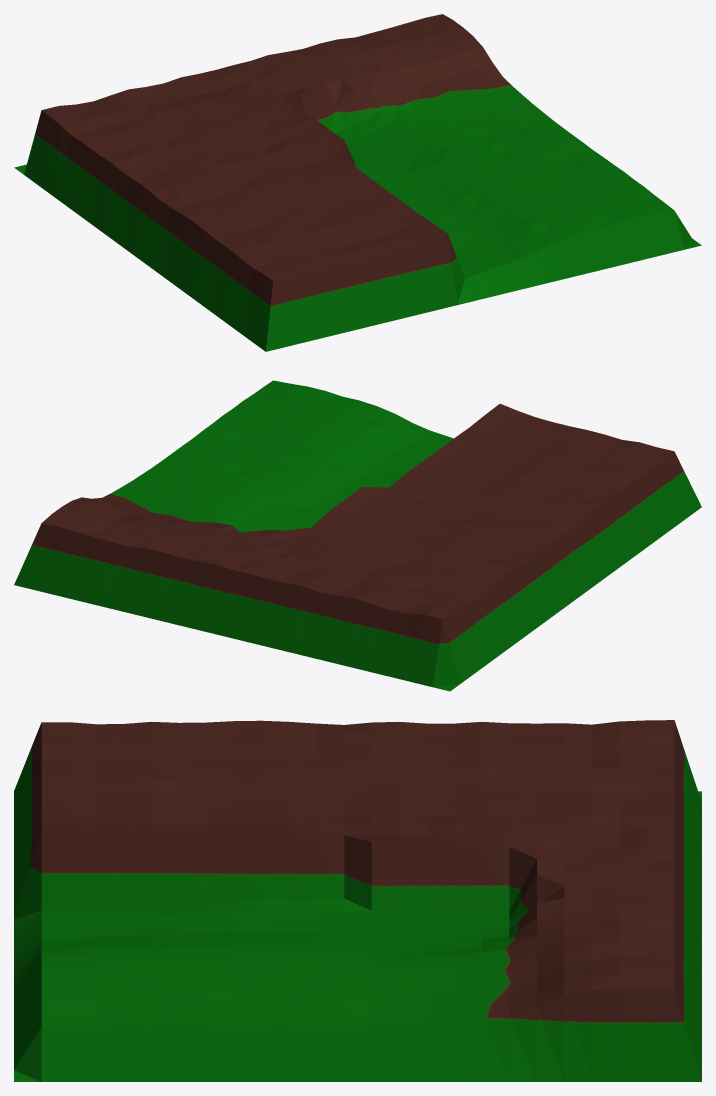
Rendered from Tile7.fbx.
3 renders of one model, top to bottom at view 1: azimuth 30°, elevation 25°; view 2: azimuth 150°, elevation 25°; view 3: azimuth 270°, elevation 25°, orthographic. The views are drawn at different scales.
Parts seen in each view (by area): view 1: ImageToStl.com_7; view 2: ImageToStl.com_7; view 3: ImageToStl.com_7.
Boxes of the visible parts, x1=… form: ImageToStl.com_7: x1=14, y1=14, x2=701, y2=351; ImageToStl.com_7: x1=14, y1=380, x2=701, y2=691; ImageToStl.com_7: x1=14, y1=720, x2=701, y2=1081.
Size of the model in its own units: 10417 by 1488 by 10417.
1 material, 1 textured.
